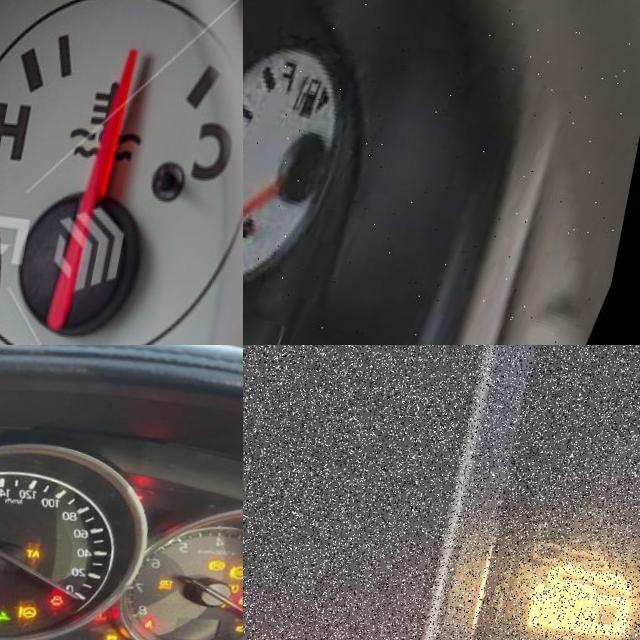Electronic Power Steering: (29, 594, 50, 610)
High Engine Coolant Temperature: (107, 599, 119, 609)
Seat Belt: (155, 606, 167, 618)
